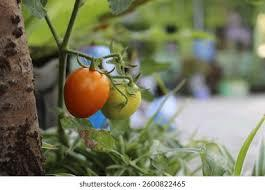Masak: (111, 73, 141, 117)
Mengkal: (57, 57, 110, 120)
